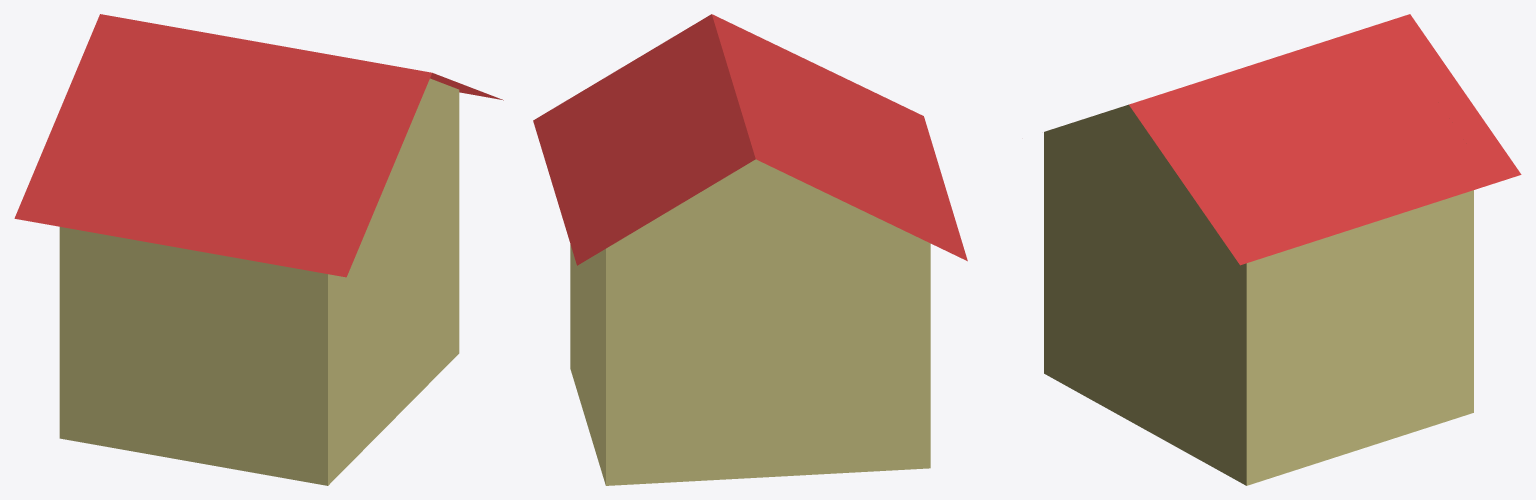
3 renders of one model, left to right at view 1: azimuth 30°, elevation 25°; view 2: azimuth 150°, elevation 25°; view 3: azimuth 270°, elevation 25°, orthographic. The views are drawn at different scales.
Size of the model in its own units: 15.71 by 15.44 by 11.02.
